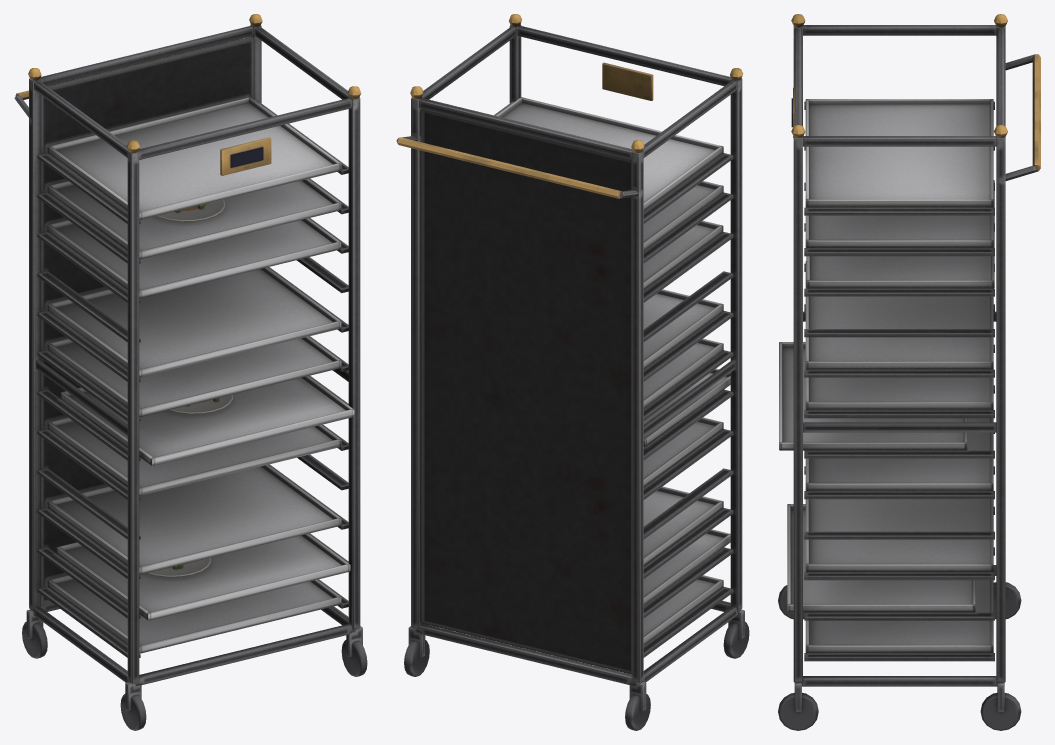
File: TrayRack.fbx
3 renders of one model, left to right at view 1: azimuth 30°, elevation 25°; view 2: azimuth 150°, elevation 25°; view 3: azimuth 270°, elevation 25°, orthographic. The views are drawn at different scales.
Visible parts, largest first — view 1: TrayRack; view 2: TrayRack; view 3: TrayRack.
Part boxes in pixels (x1,y1,x2,y2): TrayRack: (14,14,367,730); TrayRack: (396,14,749,730); TrayRack: (778,14,1040,730).
Bounding box in the file's own units: 234 × 560 × 221.
